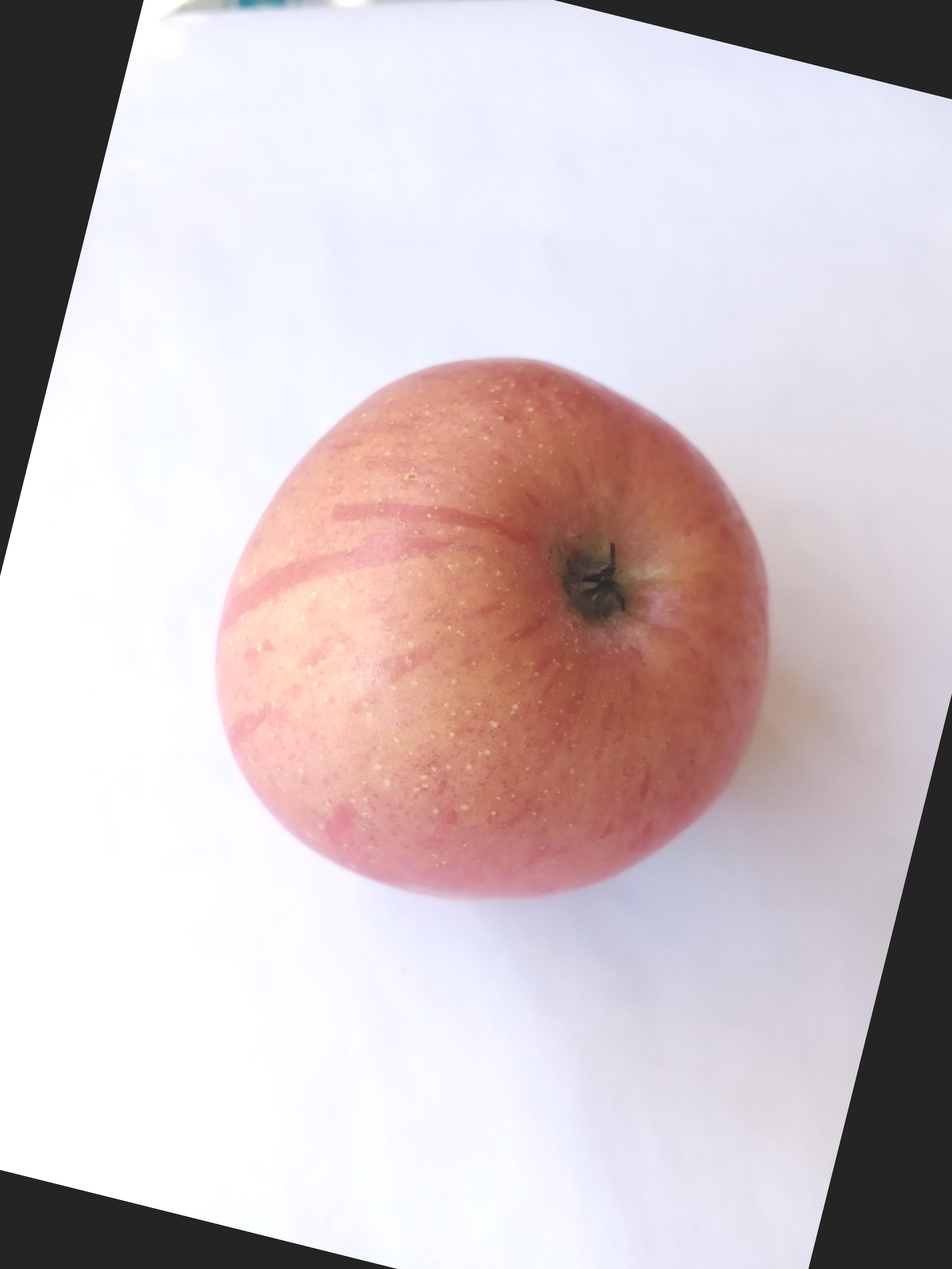Apple Ripe: (342, 151, 952, 868)
